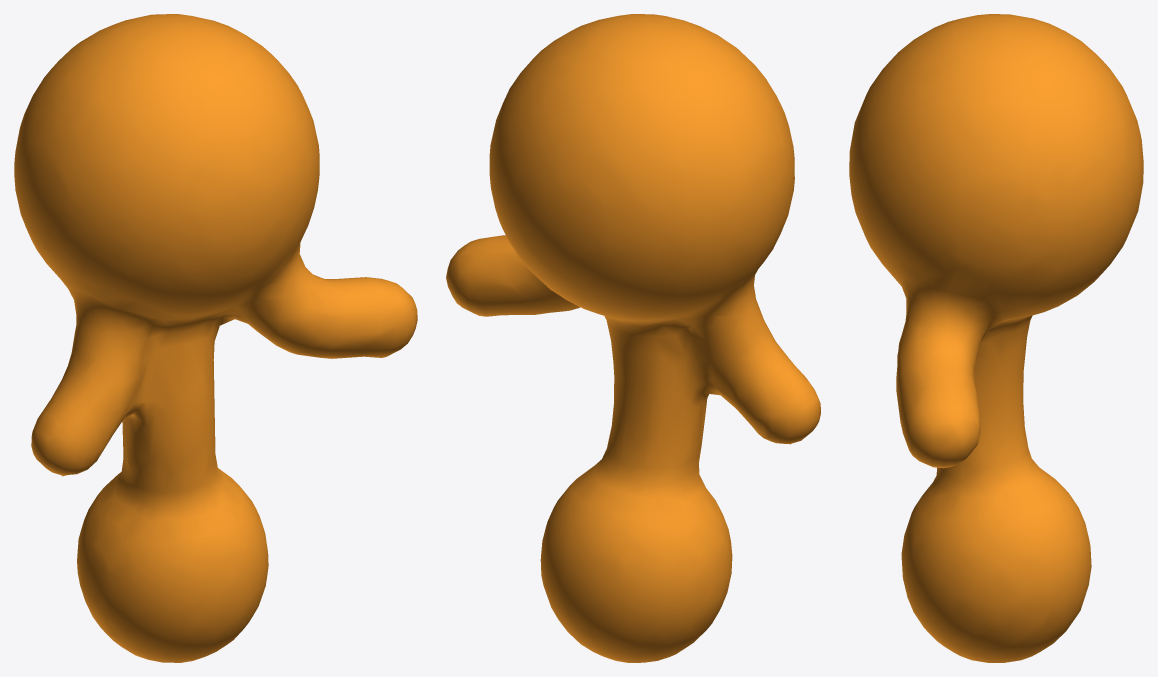
File: orange-pendant.glb
3 renders of one model, left to right at view 1: azimuth 30°, elevation 25°; view 2: azimuth 150°, elevation 25°; view 3: azimuth 270°, elevation 25°, orthographic.
Parts seen in each view (by area): view 1: orange-pendant; view 2: orange-pendant; view 3: orange-pendant.
Boxes of the visible parts, box(x1,y1,x2,y2) form: orange-pendant: box(14, 14, 417, 662); orange-pendant: box(446, 14, 820, 662); orange-pendant: box(849, 14, 1143, 662).
Bounding box in the file's own units: 1.23 × 2 × 0.8556.
